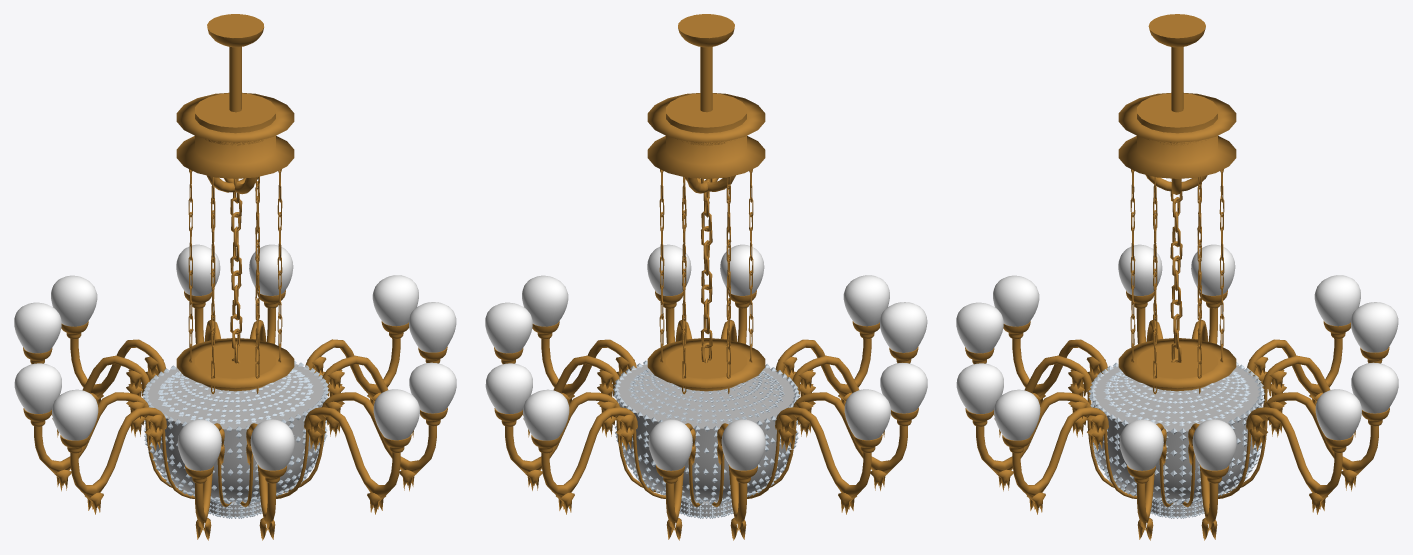
File: chandlia.FBX
3 views of the same model, side by side, from view 1: azimuth 30°, elevation 25°; view 2: azimuth 150°, elevation 25°; view 3: azimuth 270°, elevation 25° (orthographic).
Visible parts, largest first — view 1: Object53, Object48, Object50, Object14, aa, Object07, aa01, Object23, Object06, Object31, Object15, Object16 (+15 smaller); view 2: Object53, Object48, Object50, Object14, aa, Object39, aa01, Object07, Object06, Object15, Object47, Object (+15 smaller); view 3: Object53, Object48, Object50, Object14, aa, Object23, Object39, aa01, Object06, Object47, Object31, Object32 (+15 smaller).
Boxes of the visible parts, left/top/right/bottom form: Object53: left=14, top=244, right=456, bottom=470; Object48: left=146, top=364, right=325, bottom=501; Object50: left=176, top=93, right=294, bottom=178; Object14: left=176, top=338, right=294, bottom=391; aa: left=142, top=361, right=328, bottom=504; Object07: left=60, top=407, right=194, bottom=514; aa01: left=158, top=368, right=313, bottom=424; Object23: left=283, top=392, right=447, bottom=492; Object06: left=176, top=92, right=294, bottom=145; Object31: left=305, top=321, right=408, bottom=405; Object15: left=240, top=423, right=286, bottom=540; Object16: left=304, top=407, right=400, bottom=502; Object53: left=485, top=244, right=927, bottom=470; Object48: left=616, top=364, right=796, bottom=501; Object50: left=647, top=93, right=765, bottom=178; Object14: left=647, top=338, right=765, bottom=391; aa: left=613, top=360, right=799, bottom=504; Object39: left=531, top=407, right=665, bottom=514; aa01: left=628, top=368, right=784, bottom=423; Object07: left=756, top=392, right=918, bottom=492; Object06: left=647, top=93, right=765, bottom=145; Object15: left=775, top=321, right=879, bottom=405; Object47: left=712, top=423, right=757, bottom=540; Object: left=775, top=407, right=871, bottom=502; Object53: left=956, top=244, right=1398, bottom=470; Object48: left=1092, top=365, right=1261, bottom=501; Object50: left=1118, top=93, right=1236, bottom=178; Object14: left=1118, top=338, right=1236, bottom=391; aa: left=1088, top=362, right=1264, bottom=505; Object23: left=1002, top=407, right=1136, bottom=514; Object39: left=1224, top=392, right=1389, bottom=492; aa01: left=1103, top=370, right=1250, bottom=425; Object06: left=1118, top=93, right=1236, bottom=145; Object47: left=1247, top=321, right=1350, bottom=405; Object31: left=1182, top=423, right=1228, bottom=540; Object32: left=1246, top=407, right=1342, bottom=502.
Size of the model in its own units: 15809 by 18077 by 15153.
